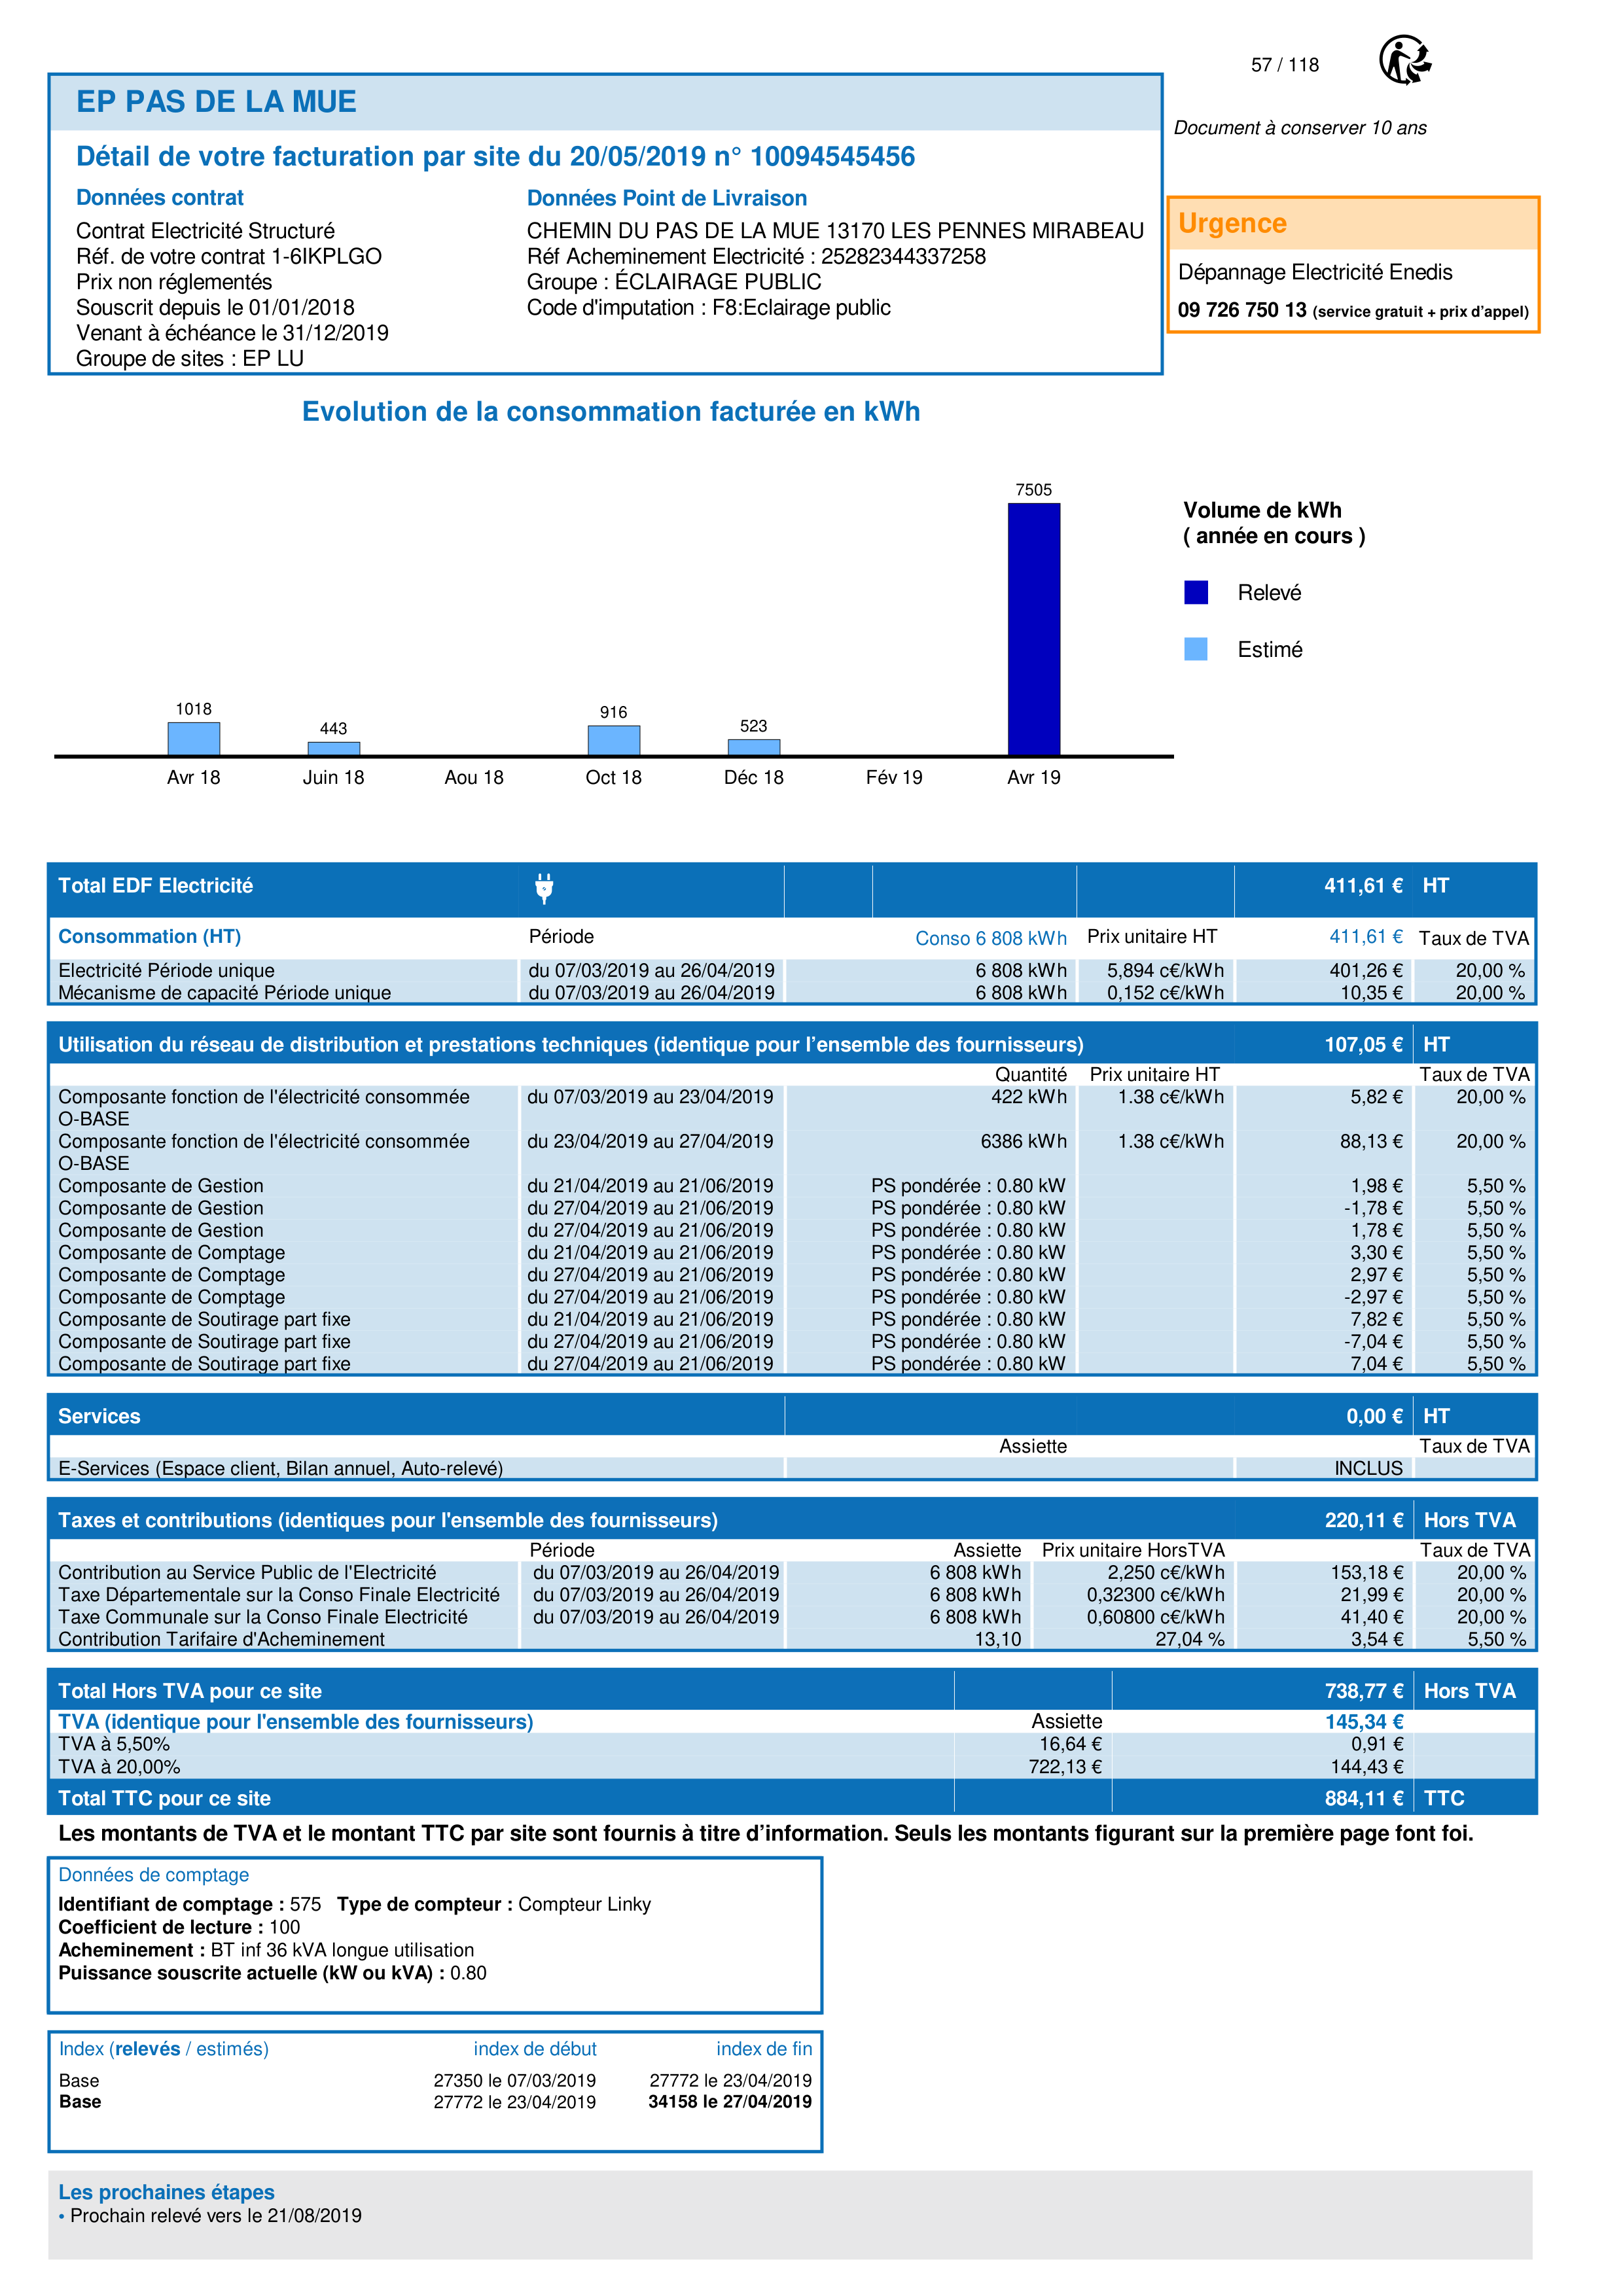area: (47, 2031, 822, 2150)
type_indicator: (47, 2031, 281, 2064)
